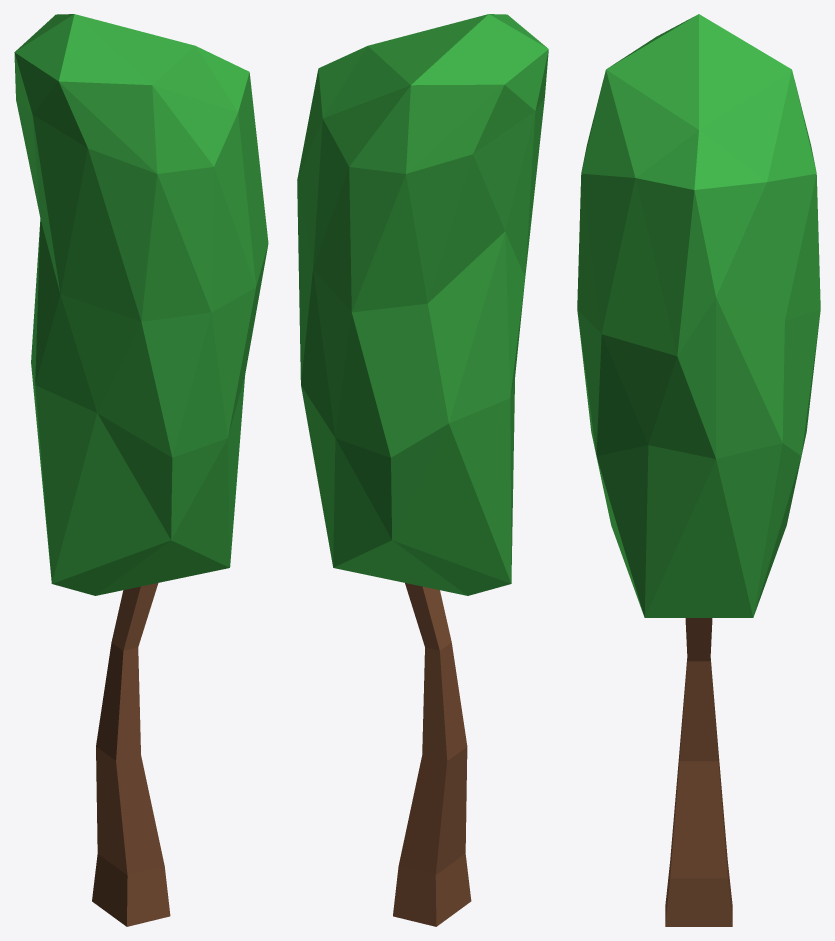
File: Tree_38_Green.fbx
3 views of the same model, side by side, from view 1: azimuth 30°, elevation 25°; view 2: azimuth 150°, elevation 25°; view 3: azimuth 270°, elevation 25° (orthographic). The views are drawn at different scales.
Visible parts, largest first — view 1: Tree_38_Green_Part_1, Tree_38_Green_Part_2; view 2: Tree_38_Green_Part_1, Tree_38_Green_Part_2; view 3: Tree_38_Green_Part_1, Tree_38_Green_Part_2.
Boxes of the visible parts, left/top/right/bottom form: Tree_38_Green_Part_1: left=14, top=14, right=268, bottom=595; Tree_38_Green_Part_2: left=92, top=583, right=170, bottom=926; Tree_38_Green_Part_1: left=297, top=14, right=548, bottom=595; Tree_38_Green_Part_2: left=393, top=583, right=471, bottom=926; Tree_38_Green_Part_1: left=577, top=14, right=820, bottom=617; Tree_38_Green_Part_2: left=665, top=618, right=732, bottom=926.
Bounding box in the file's own units: 209 × 800 × 201.
